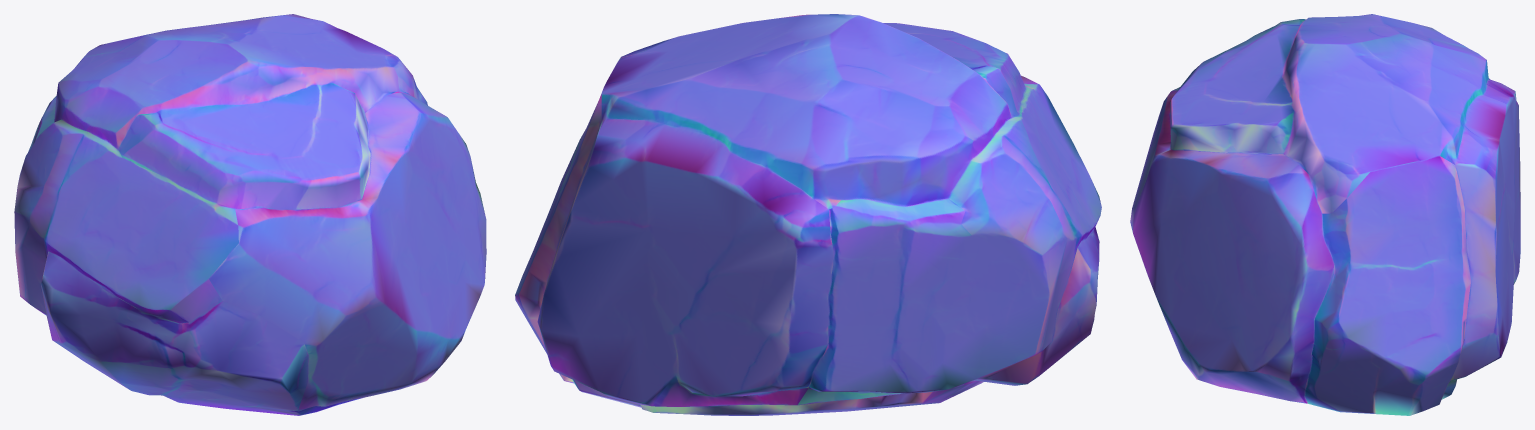
Rendered from Boulder03.fbx.
The picture shows the model from 3 angles, left to right: view 1: azimuth 30°, elevation 25°; view 2: azimuth 150°, elevation 25°; view 3: azimuth 270°, elevation 25°; orthographic projection. The views are drawn at different scales.
Visible parts, largest first — view 1: Boulder03_LOD0; view 2: Boulder03_LOD0; view 3: Boulder03_LOD0.
Boxes of the visible parts, box(x1,y1,x2,y2) form: Boulder03_LOD0: box(14, 14, 486, 415); Boulder03_LOD0: box(515, 14, 1101, 415); Boulder03_LOD0: box(1130, 14, 1520, 415).
Size of what is drawn, in the model's own units: 234 by 157 by 194.
